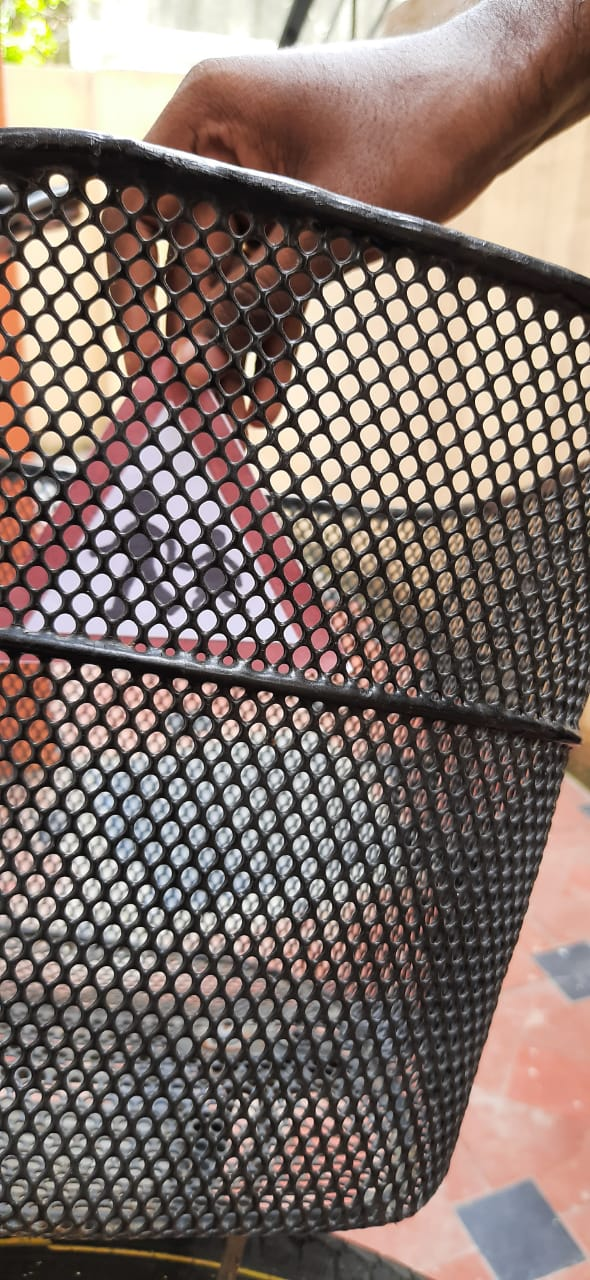SCHOOL ZONE: (1, 288, 387, 707)
